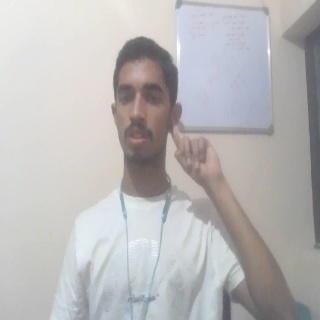Deaf: (170, 119, 233, 188)
Face: (109, 35, 183, 170)
